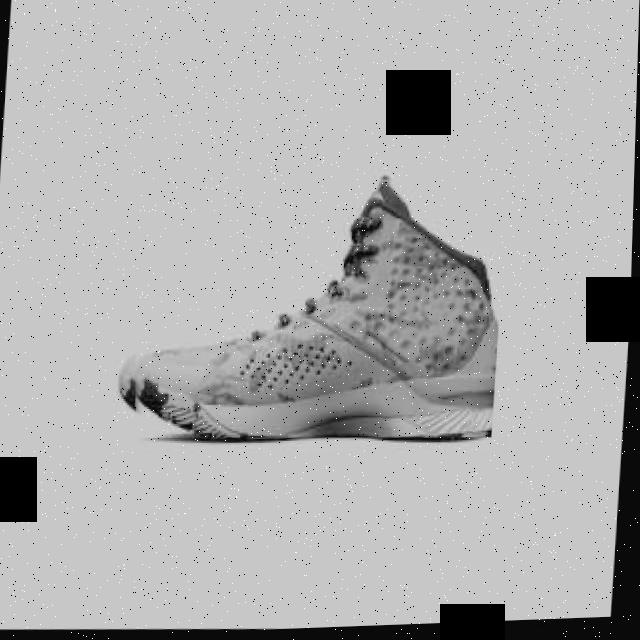shoe: (120, 164, 509, 452)
